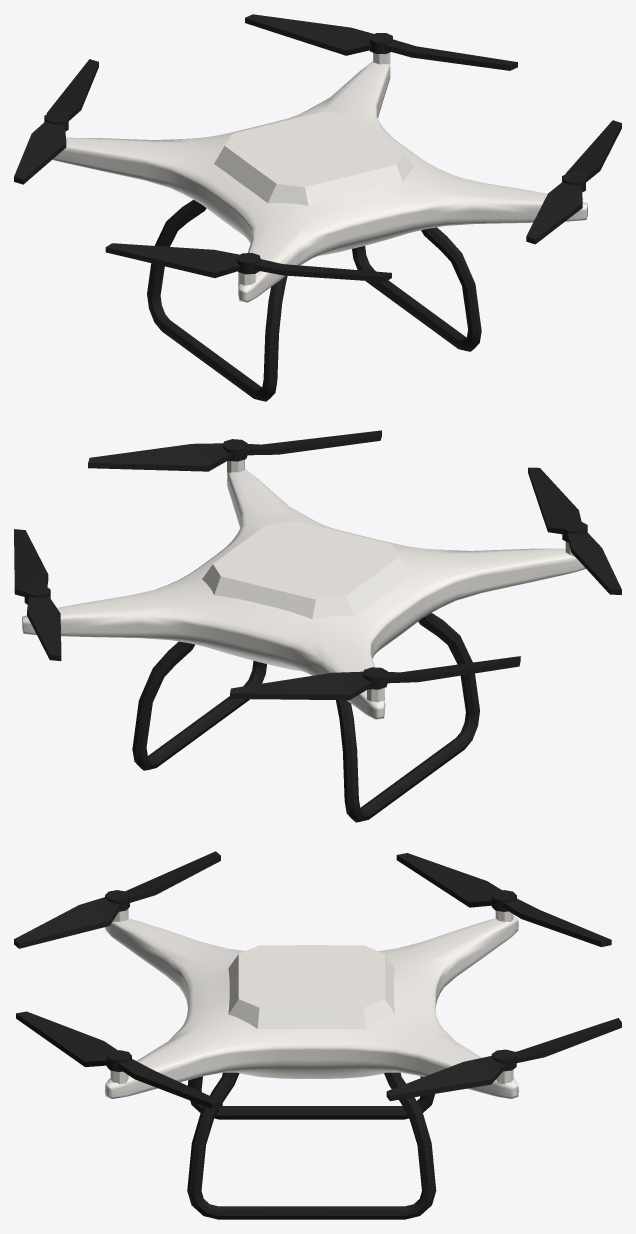
The model's file is drone.fbx.
3 renders of one model, top to bottom at view 1: azimuth 30°, elevation 25°; view 2: azimuth 150°, elevation 25°; view 3: azimuth 270°, elevation 25°, orthographic. The views are drawn at different scales.
Visible parts, largest first — view 1: polySurface9, polySurface6, Wing6, Wing2, polySurface7, Wing7, Wing5; view 2: polySurface9, polySurface6, Wing7, Wing5, polySurface7, Wing6, Wing2; view 3: polySurface9, polySurface7, Wing2, Wing5, Wing6, Wing7, polySurface6.
Part boxes in pixels (box(x1,y1,x2,y2)): polySurface9: box(52, 52, 587, 302); polySurface6: box(147, 199, 287, 401); Wing6: box(105, 243, 391, 281); Wing2: box(245, 14, 517, 70); polySurface7: box(352, 227, 481, 351); Wing7: box(526, 120, 621, 244); Wing5: box(14, 59, 98, 184); polySurface9: box(22, 459, 585, 719); polySurface6: box(336, 613, 479, 822); Wing7: box(88, 430, 381, 471); Wing5: box(230, 656, 520, 700); polySurface7: box(132, 641, 266, 770); Wing6: box(528, 467, 621, 594); Wing2: box(14, 529, 61, 660); polySurface9: box(104, 908, 518, 1098); polySurface7: box(187, 1072, 436, 1219); Wing2: box(386, 1018, 621, 1101); Wing5: box(396, 853, 611, 946); Wing6: box(14, 851, 220, 948); Wing7: box(16, 1011, 222, 1108); polySurface6: box(187, 1076, 434, 1119).
Bounding box in the file's own units: 10.81 × 11.01 × 3.88.
2 materials, 1 textured.
